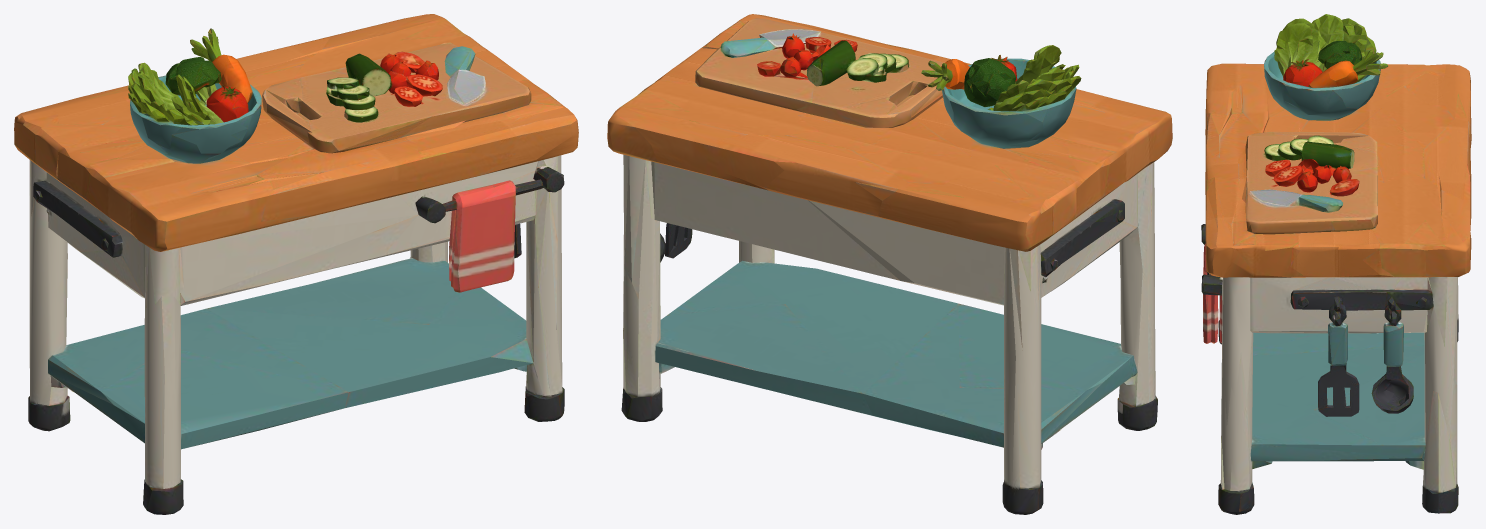
The model's file is rounded-restaurant-prep-workbench-vegetable-prep.glb.
3 views of the same model, side by side, from view 1: azimuth 30°, elevation 25°; view 2: azimuth 150°, elevation 25°; view 3: azimuth 270°, elevation 25° (orthographic). The views are drawn at different scales.
Parts seen in each view (by area): view 1: Mesh_0; view 2: Mesh_0; view 3: Mesh_0.
Part boxes in pixels (x1=…): Mesh_0: x1=14, y1=14, x2=578, y2=514; Mesh_0: x1=607, y1=14, x2=1172, y2=514; Mesh_0: x1=1201, y1=14, x2=1471, y2=514.
Bounding box in the file's own units: 1.06 × 0.9 × 0.6326.
1 material, 1 textured.
